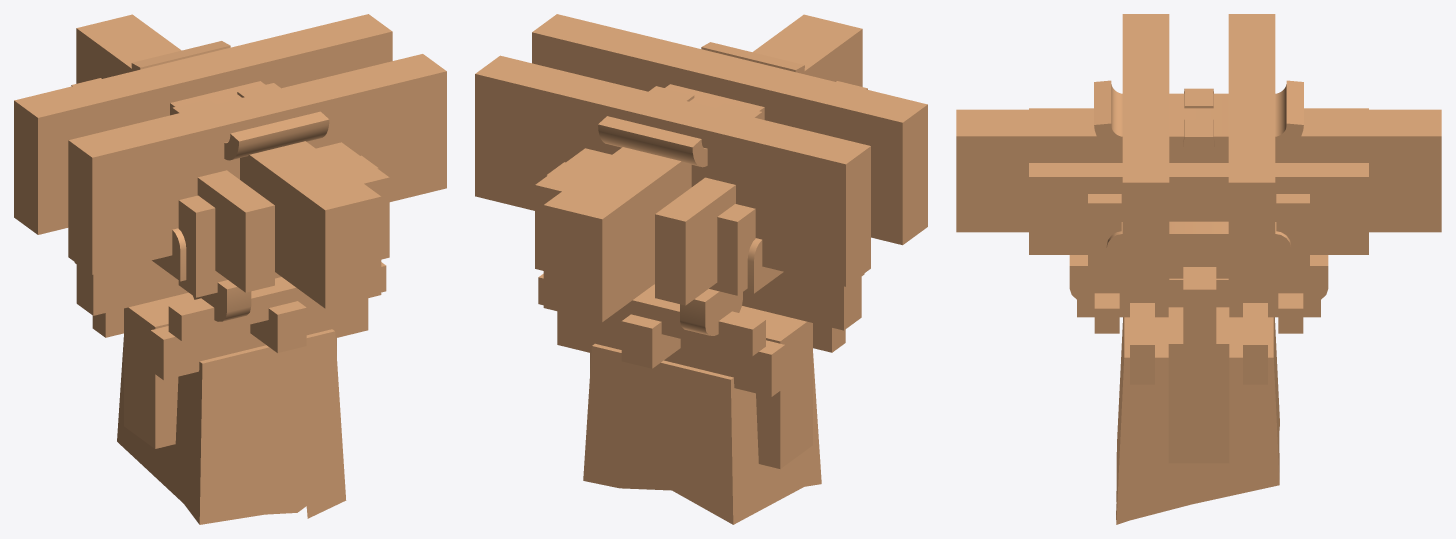
The model's file is SM_PillarCasséH_01.fbx.
The picture shows the model from 3 angles, left to right: view 1: azimuth 30°, elevation 25°; view 2: azimuth 150°, elevation 25°; view 3: azimuth 270°, elevation 25°; orthographic projection. The views are drawn at different scales.
Parts seen in each view (by area): view 1: Cube.056; view 2: Cube.056; view 3: Cube.056.
Part boxes in pixels (<box>): Cube.056: <box>14,14,446,524</box>; Cube.056: <box>475,14,927,524</box>; Cube.056: <box>956,14,1441,524</box>.
Bounding box in the file's own units: 0.3265 × 0.3611 × 0.3969.
